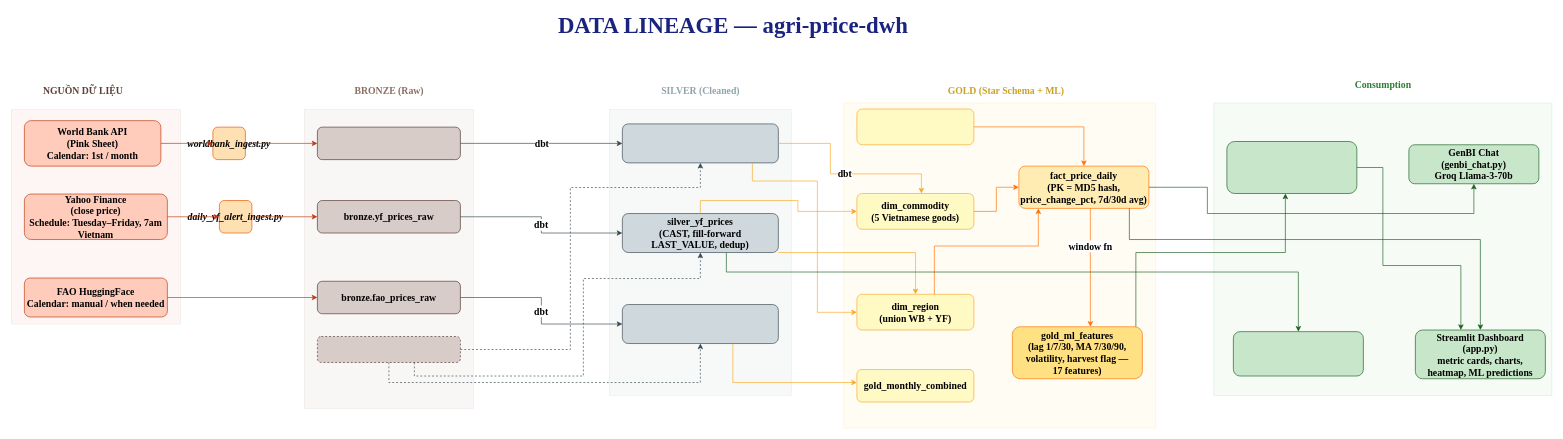
Some shapes in this 1563 by 439 pixel diagram are drawn without their labels. The centre of each missing label's shape, as x and y in pixels:
"bronze.wb_prices_raw" goes at pixel 388 143.
"dim_date (2000–2026, ~9,862 rows)" goes at pixel 915 126.
"Email Alerts (smtplib) price fluctuation threshold" goes at pixel 1298 353.
"LSTM (PyTorch) ml/lstm_forecast.py → gold.forecast_lstm → gold.model_metrics" goes at pixel 1291 167.
"seed: commodity_mapping.csv" goes at pixel 388 349.
"silver_fao_prices (CAST, /0.45359237 lb→kg, dedup)" goes at pixel 700 324.
"silver_wb_prices (CAST, /1000 ton→kg, dedup ROW_NUMBER)" goes at pixel 700 143.
